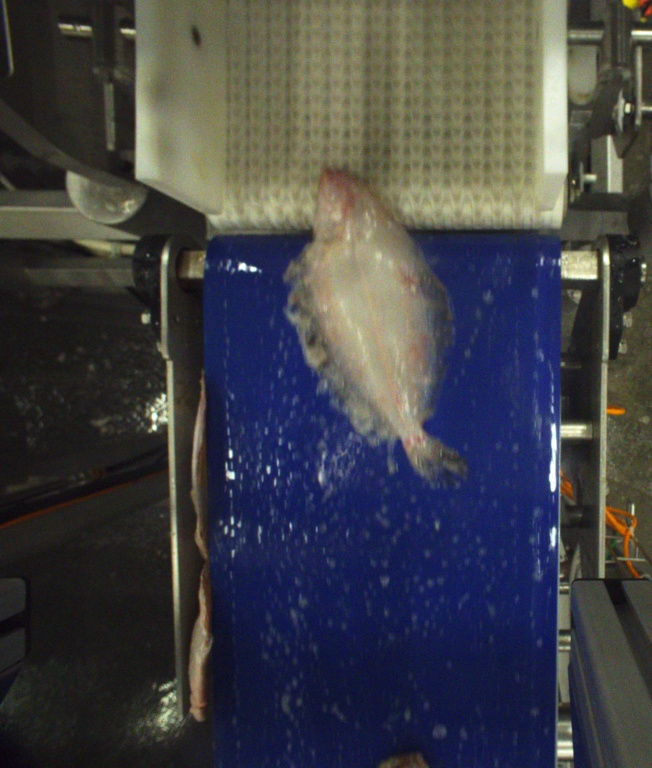WIT: (285, 166, 466, 484)
